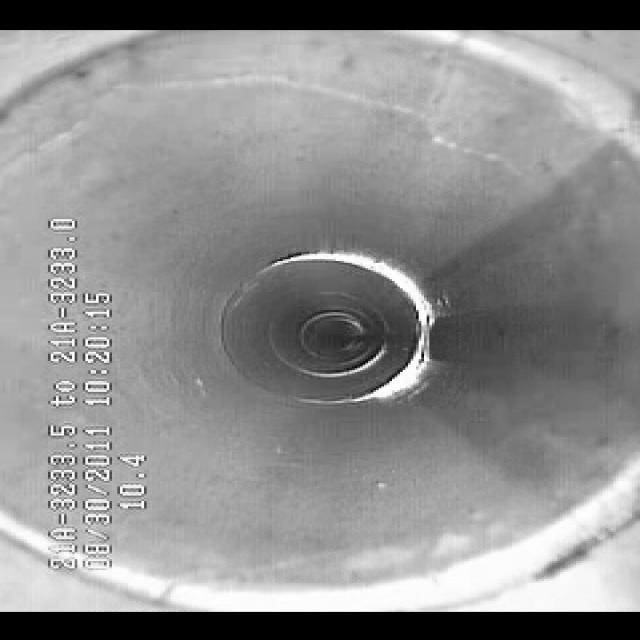Crack: (88, 42, 506, 147)
